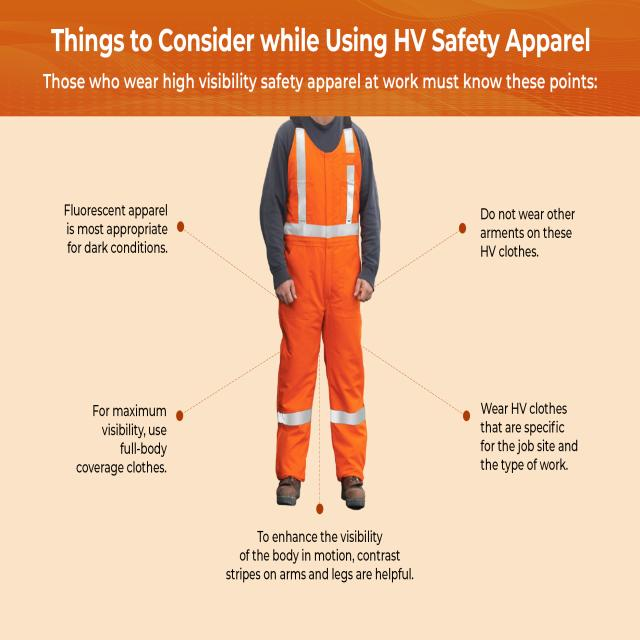Reflective-Jacket: (270, 120, 376, 494)
